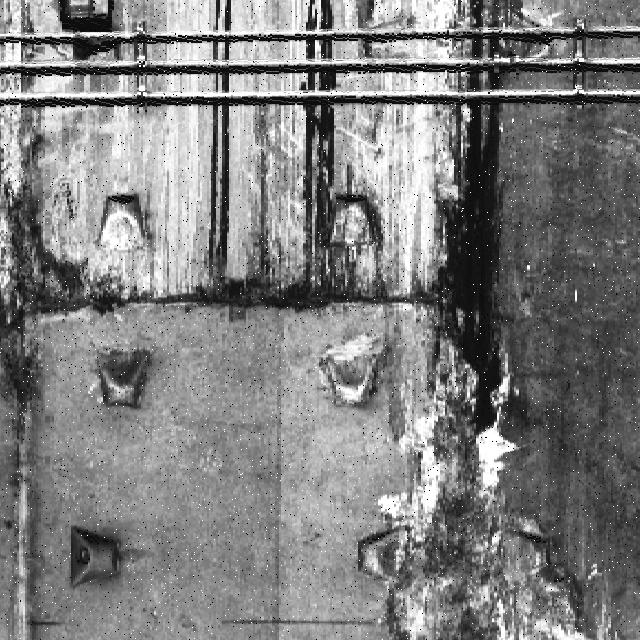leakage: (405, 2, 583, 640), (169, 1, 392, 322), (2, 121, 124, 493)
